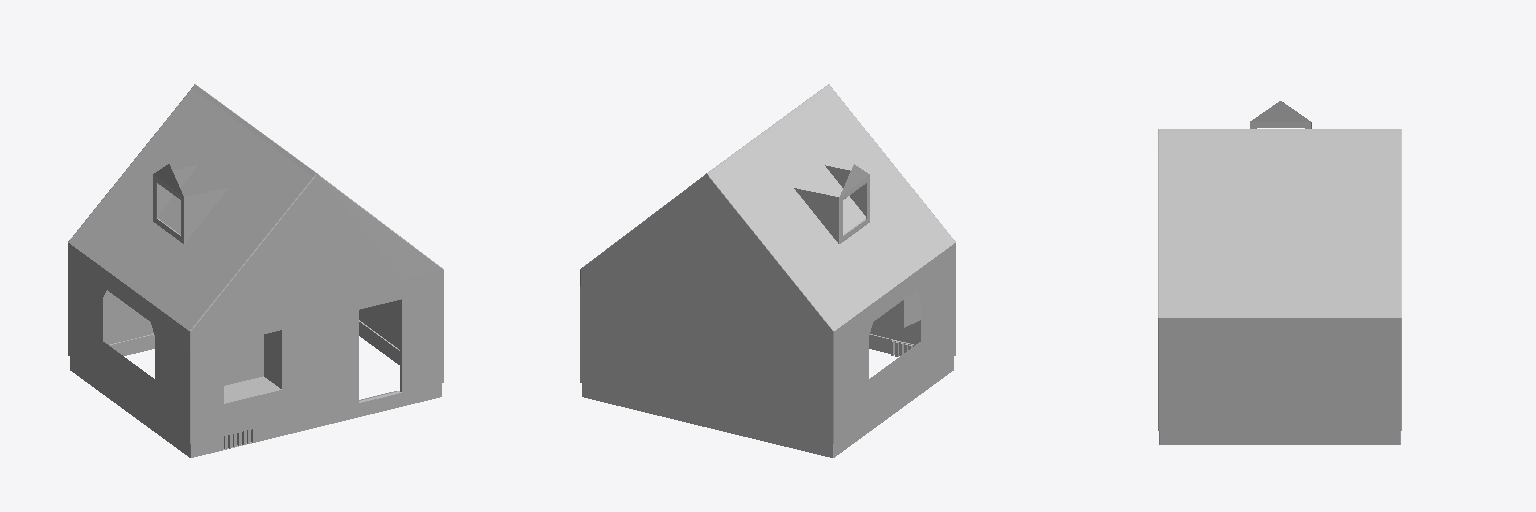
Rendered from Wall.obj.
3 renders of one model, left to right at view 1: azimuth 30°, elevation 25°; view 2: azimuth 150°, elevation 25°; view 3: azimuth 270°, elevation 25°, orthographic.
Visible parts, largest first — view 1: Wall_Cube.010; view 2: Wall_Cube.010; view 3: Wall_Cube.010.
Boxes of the visible parts, <box> form: Wall_Cube.010: <box>68,84,443,457</box>; Wall_Cube.010: <box>580,84,955,457</box>; Wall_Cube.010: <box>1158,101,1401,444</box>.
Bounding box in the file's own units: 6 × 5.74 × 5.